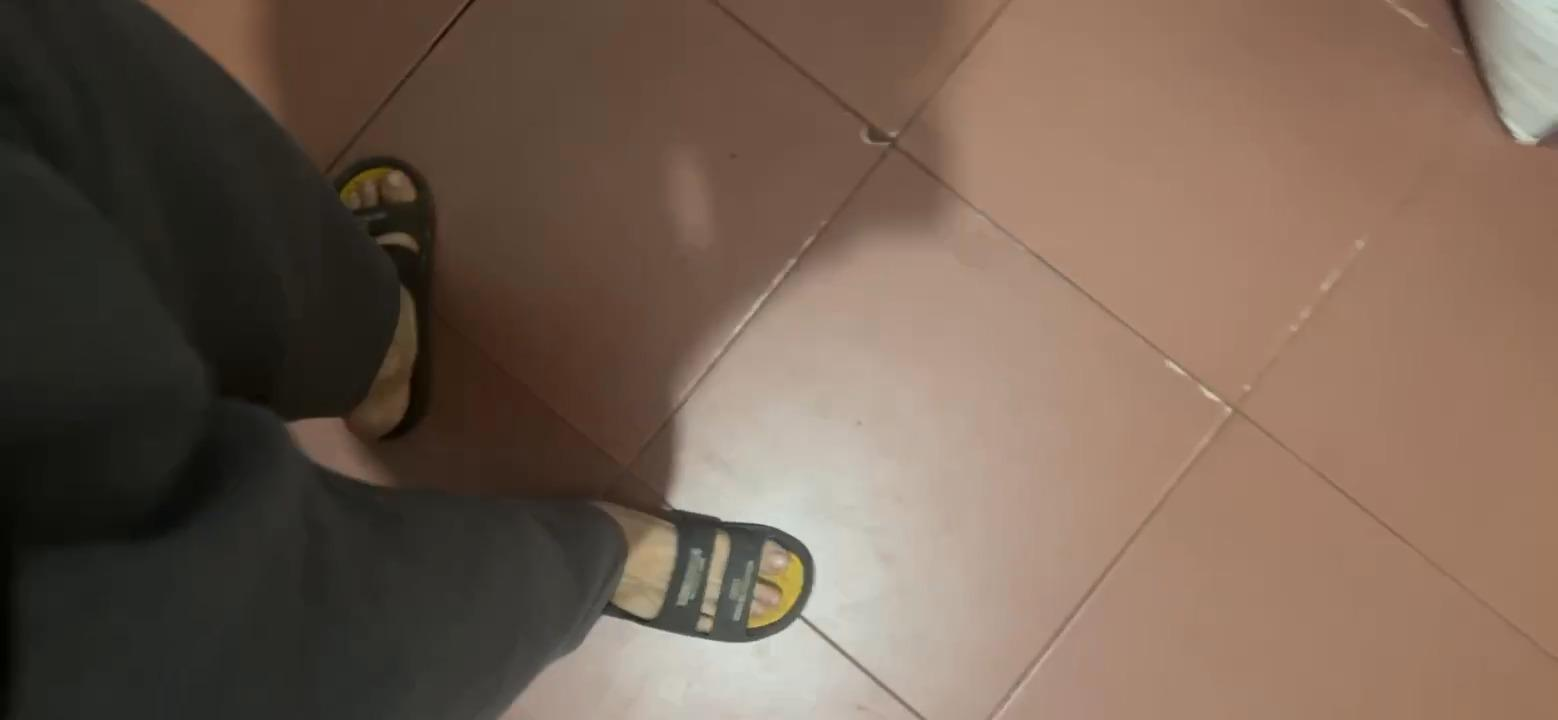no-boot: (553, 473, 811, 650), (323, 149, 447, 417)
